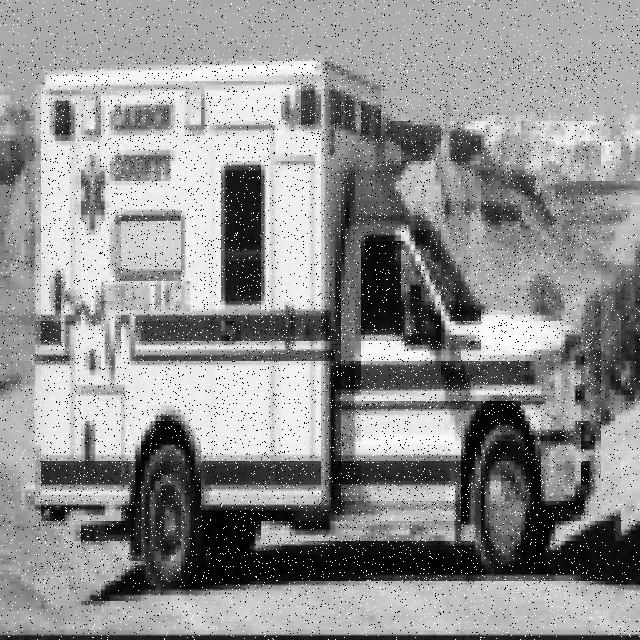Ambulance: (32, 57, 601, 593)
